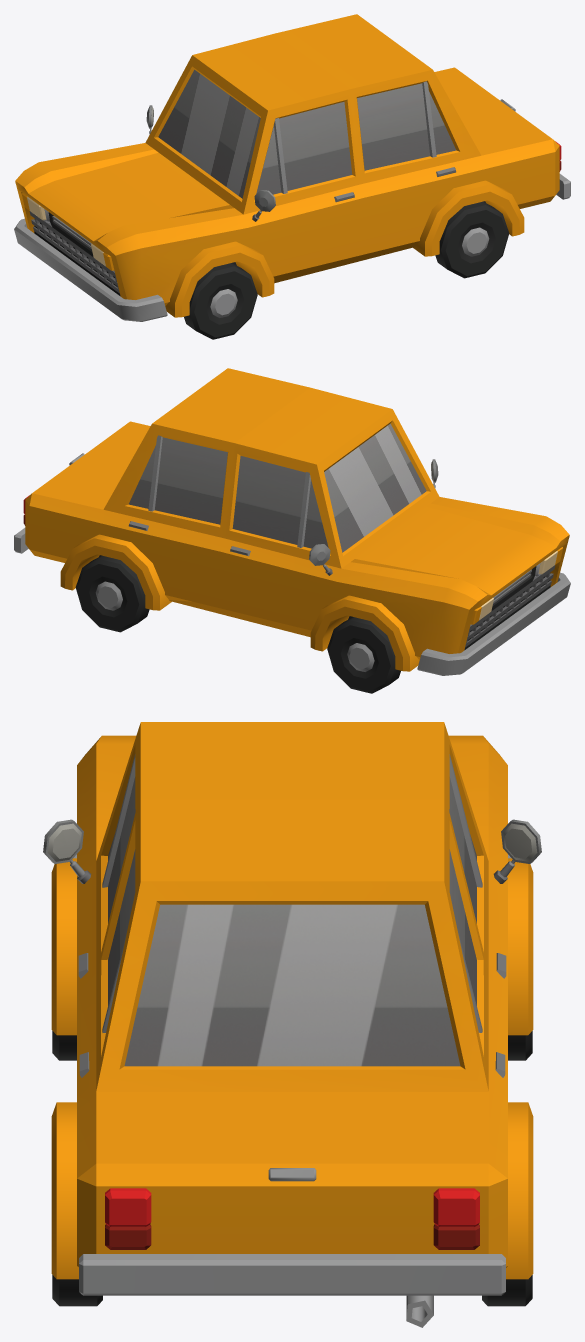
Rendered from Car_5_T.gltf.
The picture shows the model from 3 angles, top to bottom: view 1: azimuth 30°, elevation 25°; view 2: azimuth 150°, elevation 25°; view 3: azimuth 270°, elevation 25°; orthographic projection. The views are drawn at different scales.
Visible parts, largest first — view 1: Car_5_T, RR, FL; view 2: Car_5_T, RL, FR; view 3: Car_5_T, RR, RL.
Boxes of the visible parts, x1,y1,x2,y2 form: Car_5_T: (14, 14, 570, 321); RR: (435, 201, 509, 278); FL: (184, 263, 257, 339); Car_5_T: (14, 368, 570, 675); RL: (75, 555, 149, 632); FR: (327, 617, 400, 693); Car_5_T: (43, 722, 541, 1327); RR: (52, 1275, 102, 1306); RL: (482, 1275, 532, 1306).
Size of the model in its own units: 3.55 by 1.45 by 1.67.
Materials: 4 (4 with a texture image).
